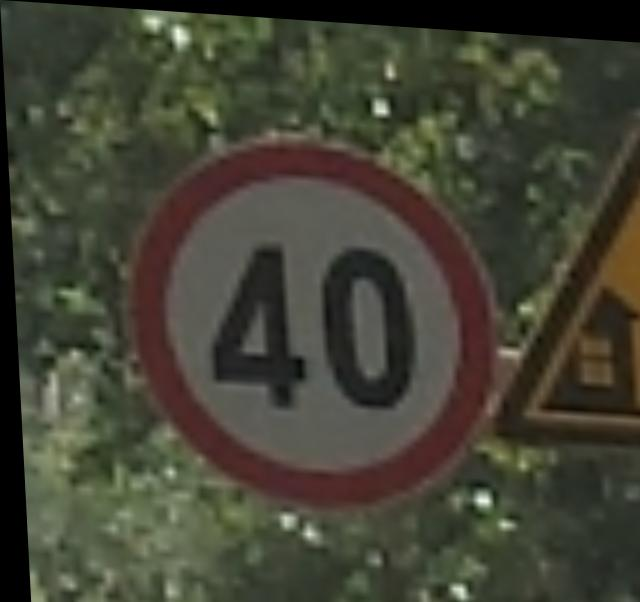limit40: (93, 109, 508, 522)
